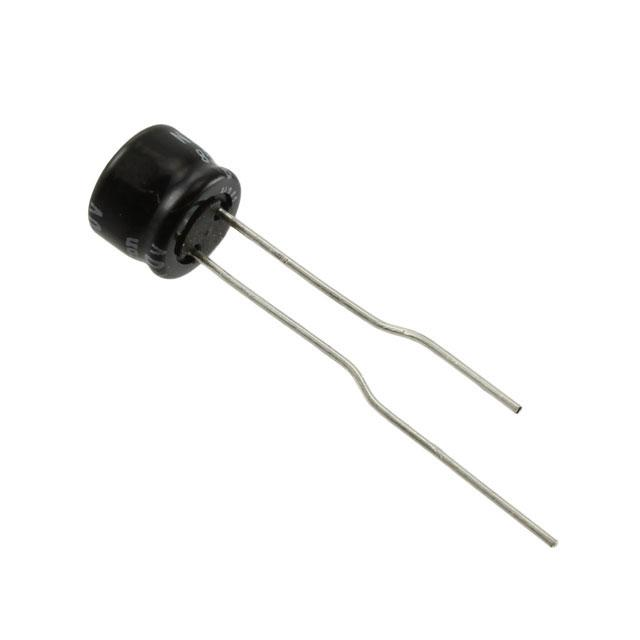Capacitor: (88, 125, 559, 549)
